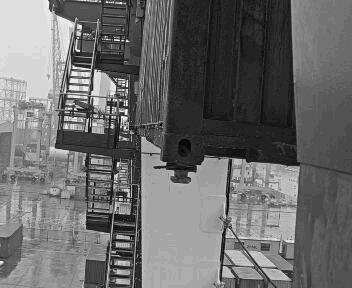twist_lock_1: (133, 156, 172, 188)
